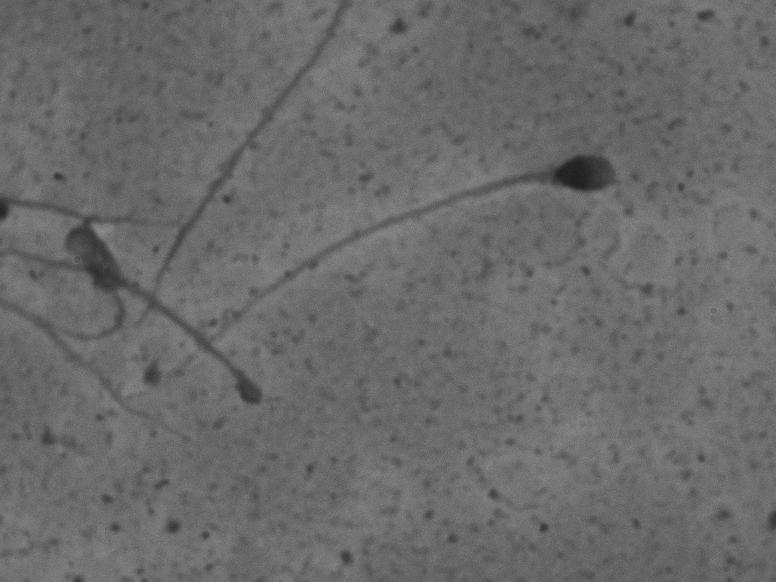Normal: (149, 142, 625, 391)
